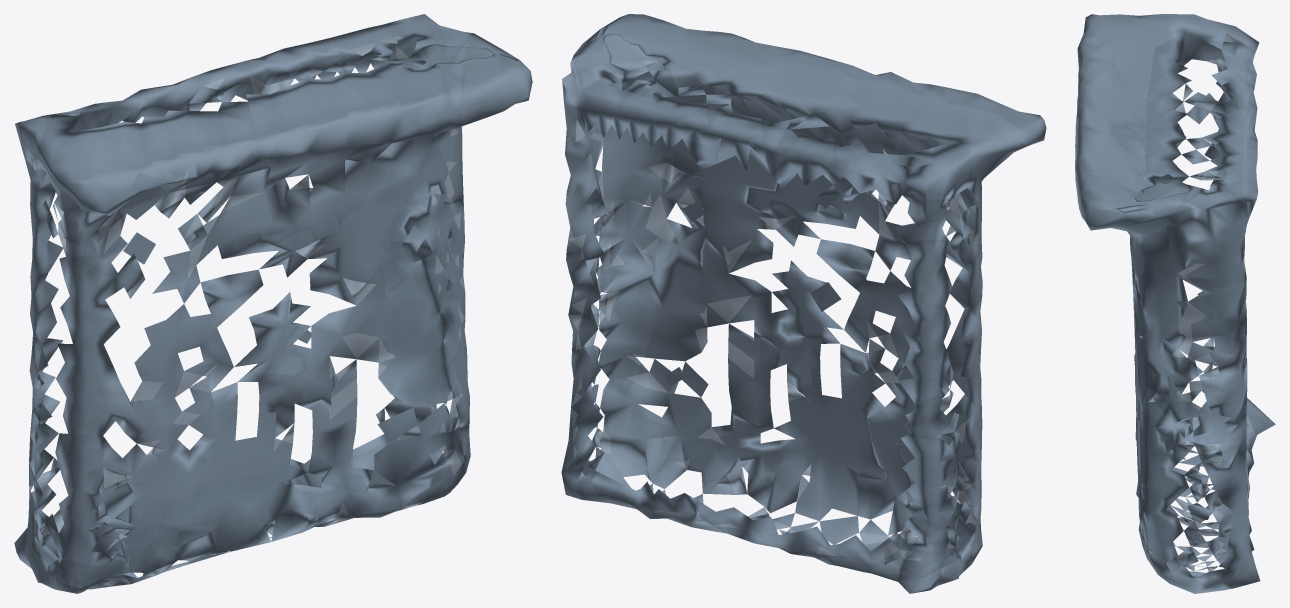
Rendered from bed_0131_recon.obj.
3 views of the same model, side by side, from view 1: azimuth 30°, elevation 25°; view 2: azimuth 150°, elevation 25°; view 3: azimuth 270°, elevation 25° (orthographic). The views are drawn at different scales.
Bounding box in the file's own units: 1.46 × 1.4 × 0.6178.
